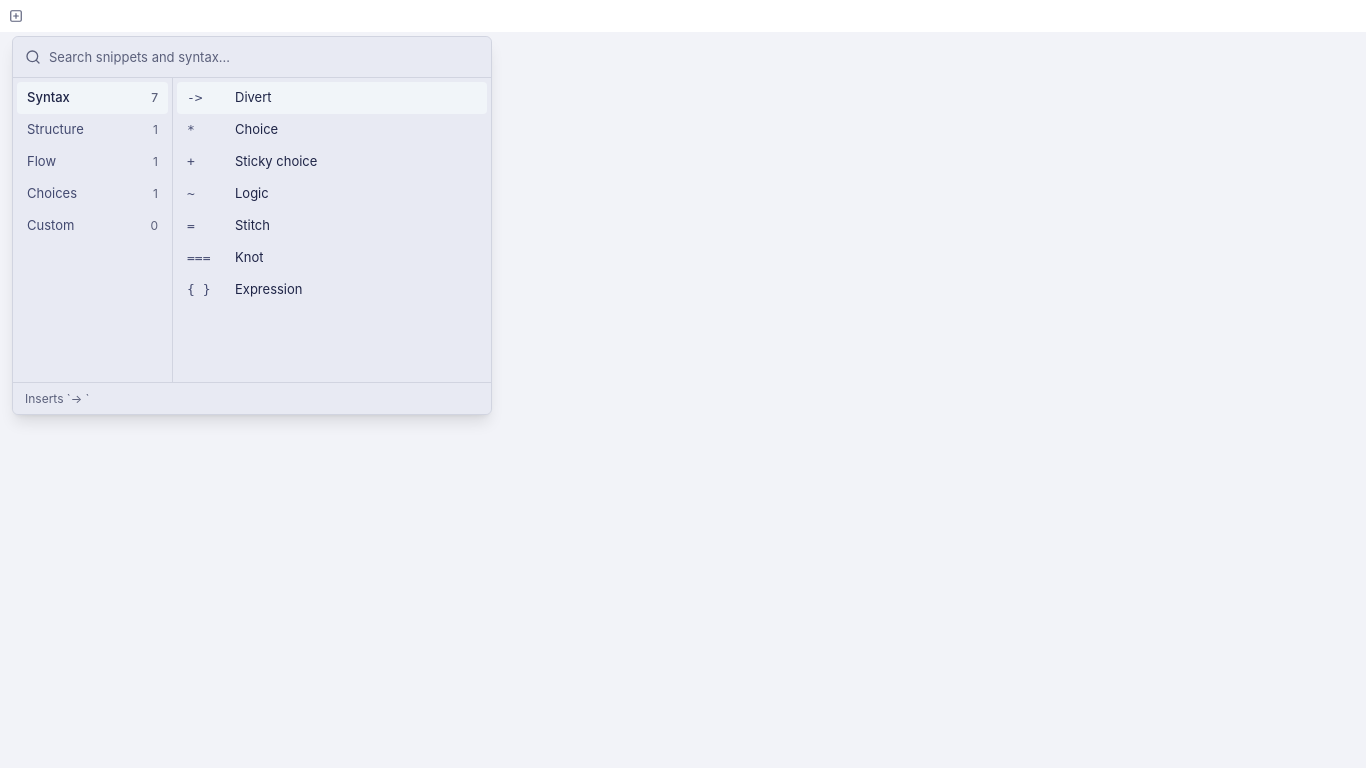
Test: InsertPalette › shows an empty message for a query with no matches
Type "zzzz" into the dropdown with placeholder "Search snippets and syntax…". click: [264, 57]
box: [49,37,479,77]
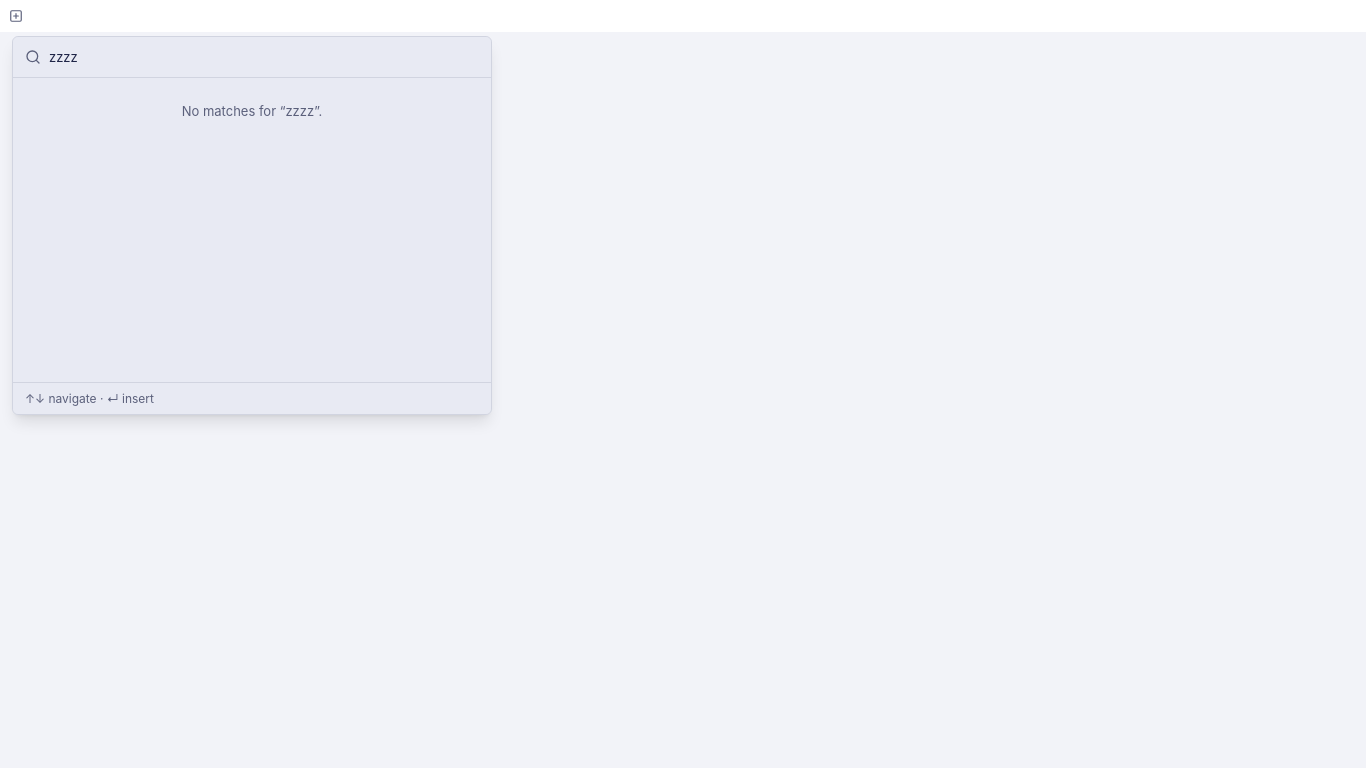
Expected: the text "No matches for “zzzz”." is shown, [182,103,322,119]
